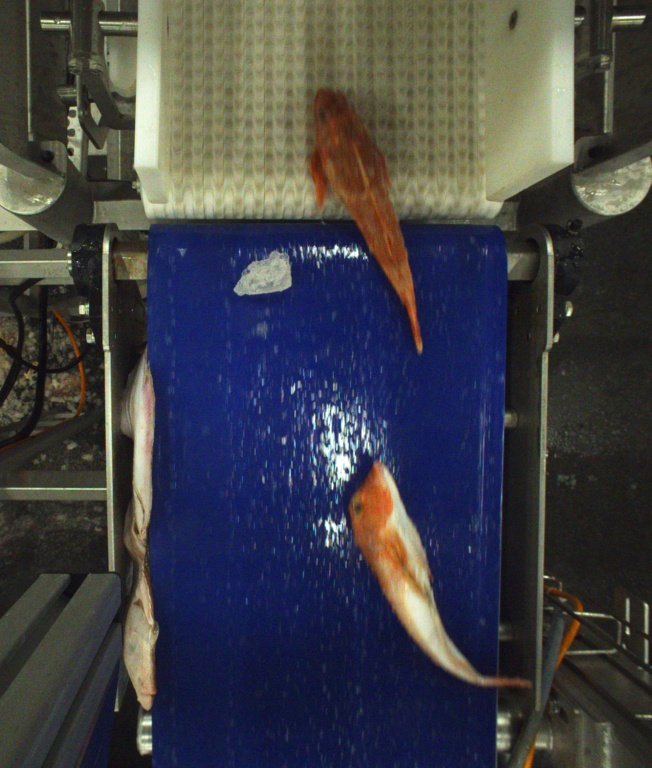GUU: (343, 456, 531, 686)
